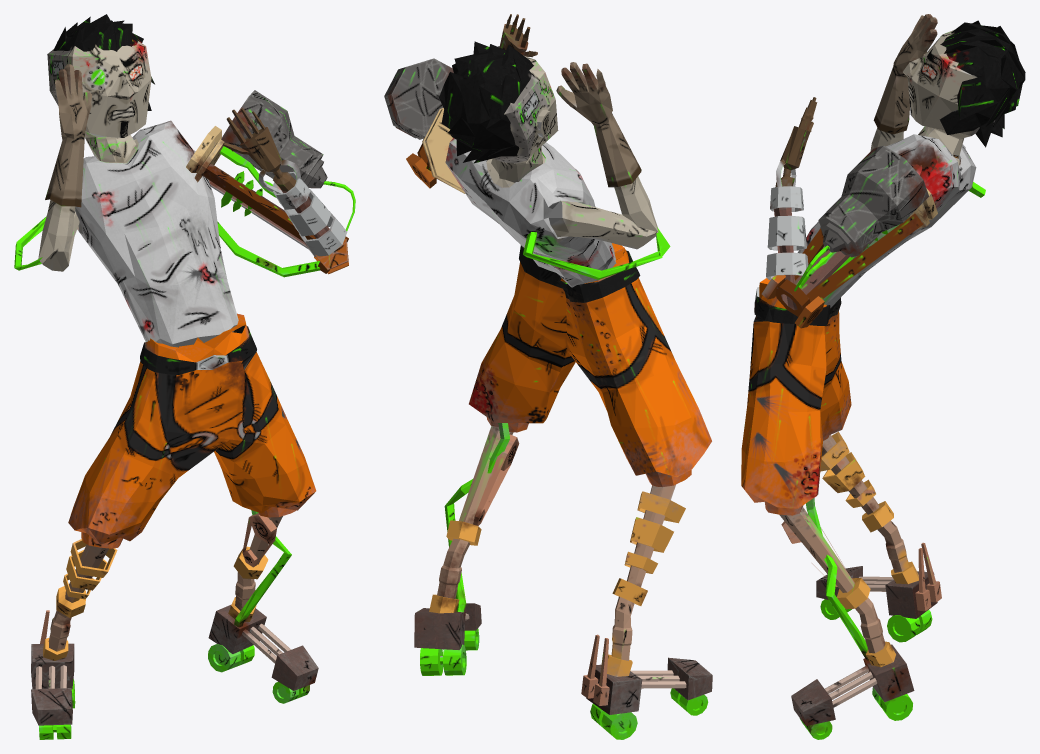
File: CyborgFINALAnimation_000011.obj
3 views of the same model, side by side, from view 1: azimuth 30°, elevation 25°; view 2: azimuth 150°, elevation 25°; view 3: azimuth 270°, elevation 25° (orthographic). The views are drawn at different scales.
Parts seen in each view (by area): view 1: CyborgMesh_Cube.002; view 2: CyborgMesh_Cube.002; view 3: CyborgMesh_Cube.002.
Boxes of the visible parts, x1,y1,x2,y2 form: CyborgMesh_Cube.002: (14, 14, 355, 739); CyborgMesh_Cube.002: (384, 14, 712, 739); CyborgMesh_Cube.002: (741, 14, 1025, 739).
Bounding box in the file's own units: 4.32 × 8.82 × 3.48.
